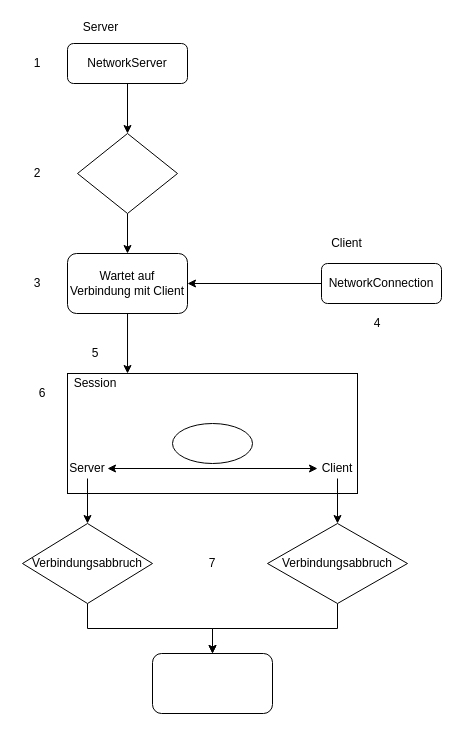
Image size: 459x731. Some labels were removed from this diagram. The box of each missing label's shape, as (x1, y1, x2, y2) in pixels:
Data-Objekt: (172, 422, 252, 464)
Session ist beendet: (152, 652, 272, 714)
Öffnet Port: (76, 132, 178, 214)
